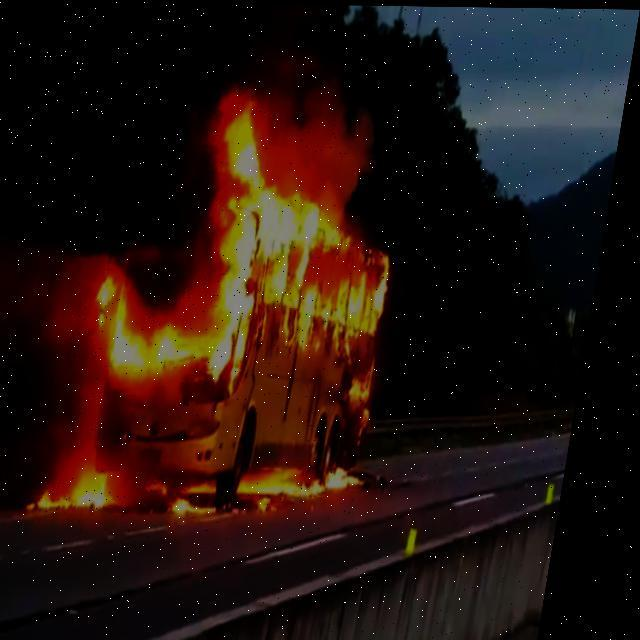Fire: (196, 102, 421, 388), (91, 277, 210, 381), (31, 466, 140, 514), (258, 465, 384, 495), (354, 356, 389, 434), (184, 495, 238, 517), (198, 474, 237, 494), (158, 478, 186, 494)
